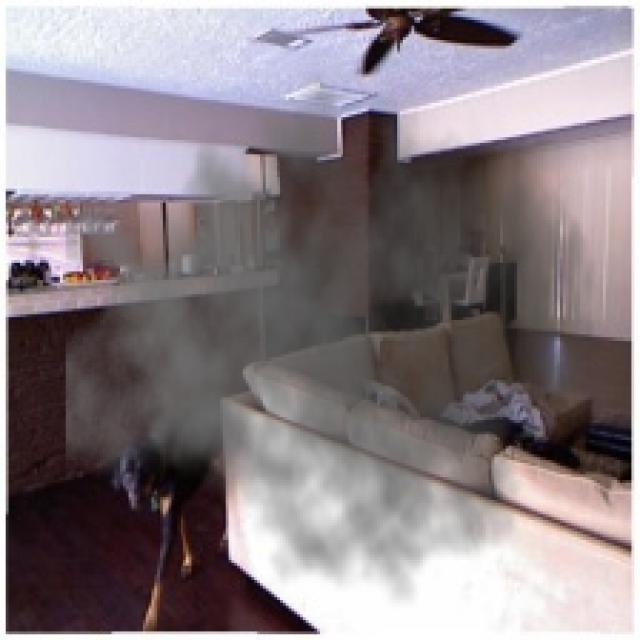smoke: (66, 46, 597, 608)
